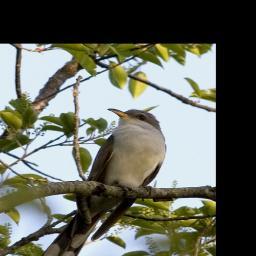Cuckoo: (32, 108, 167, 256)
